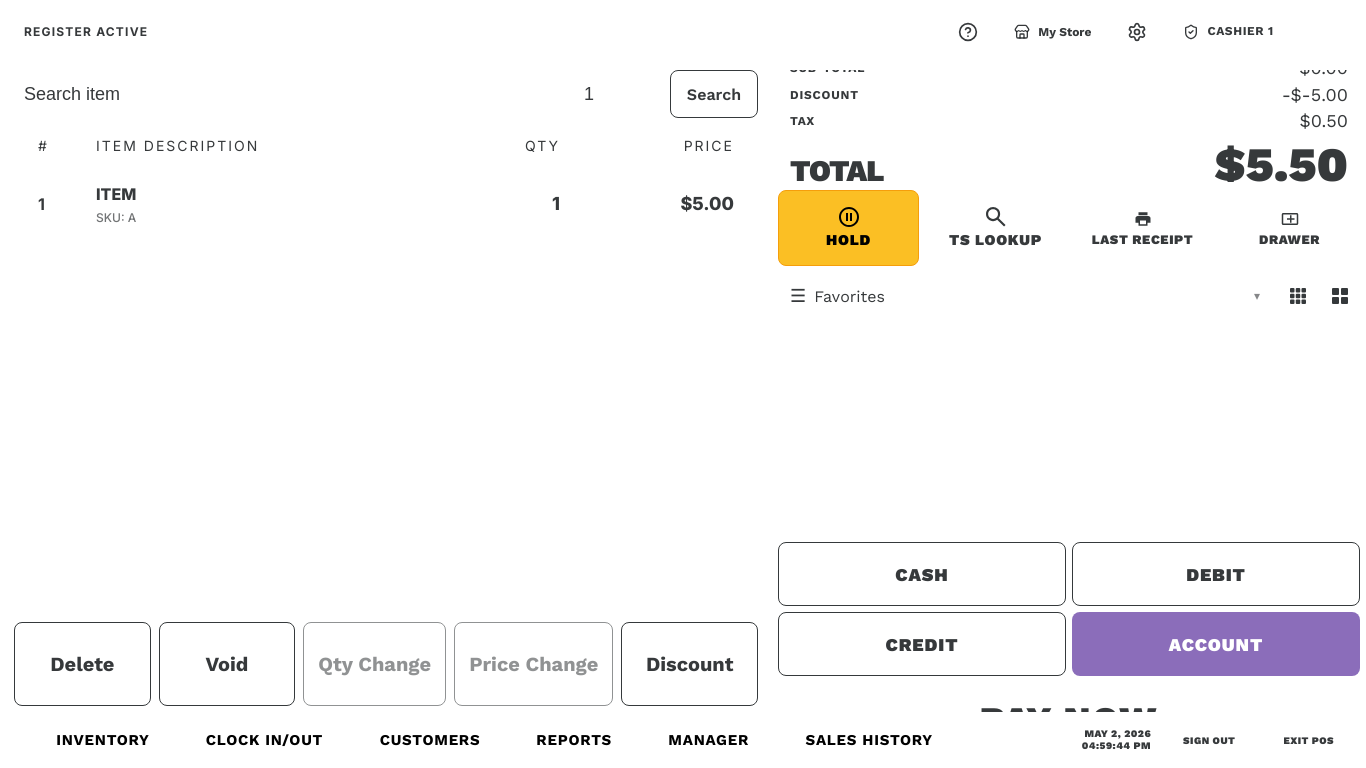
it: POSScreen › saves an account-method transaction when a service tile is picked
The image size is (1366, 768).
Step 1. Click the button with test id "account-pay-btn" → {"x": 1216, "y": 644}, box [1072,612,1360,676]
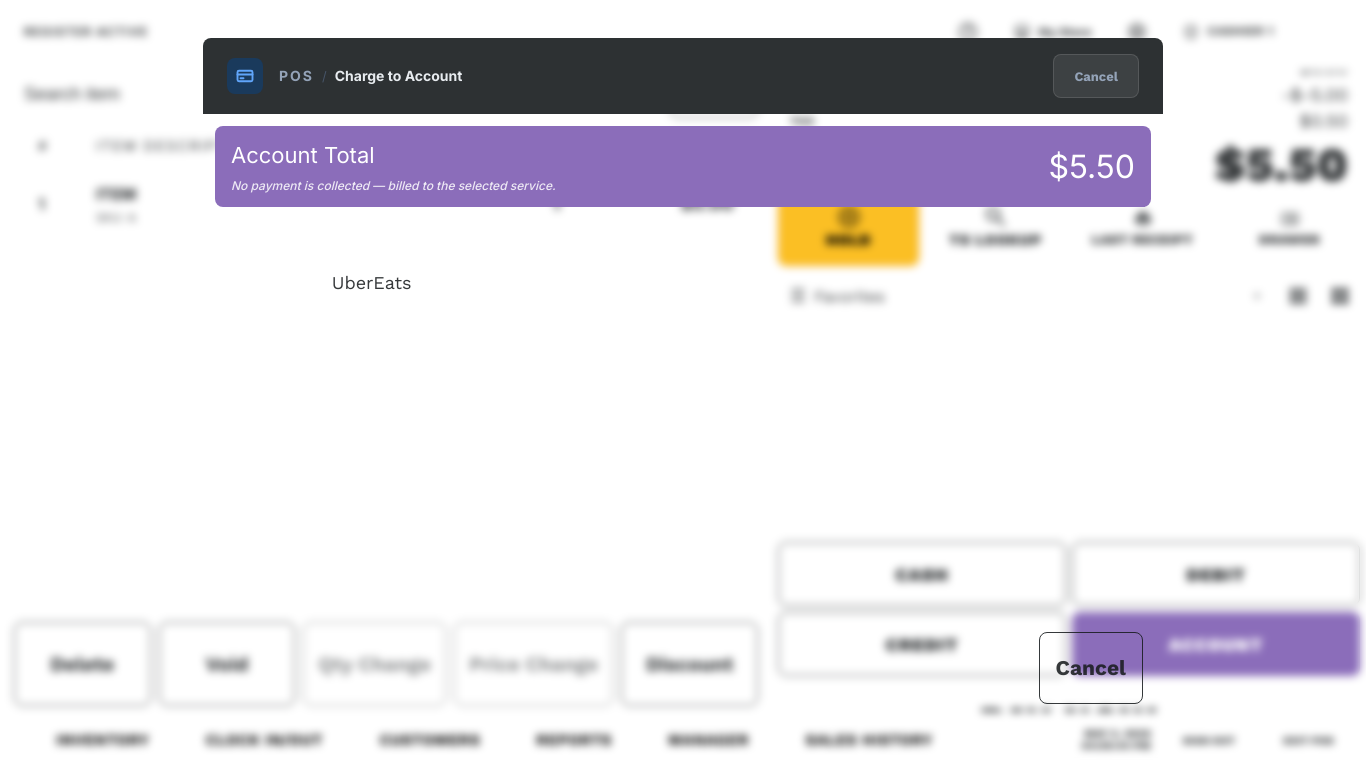
Step 2. Click the list item with test id "account-service-tile-UberEats" → {"x": 372, "y": 283}, box [223,239,520,327]
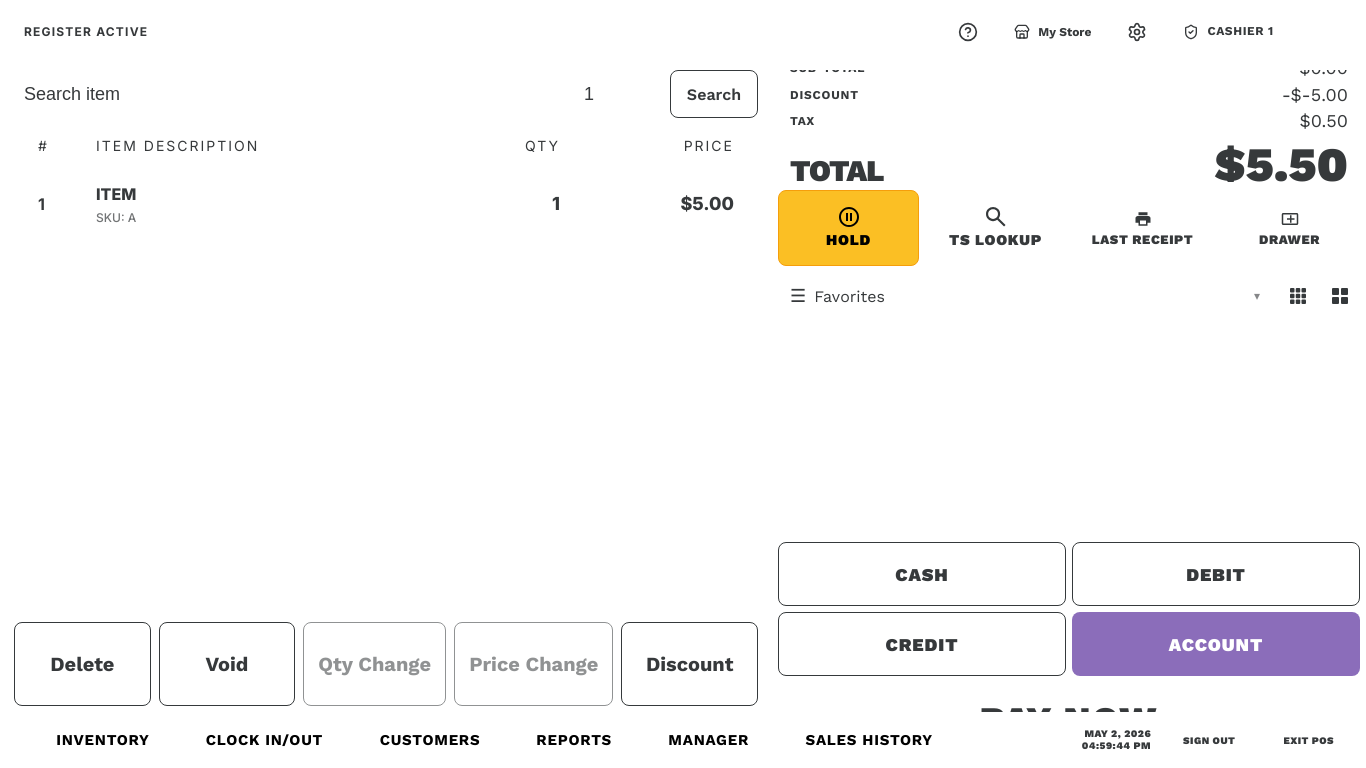
Expected: the dialog with test id "account-payment-modal" is gone
